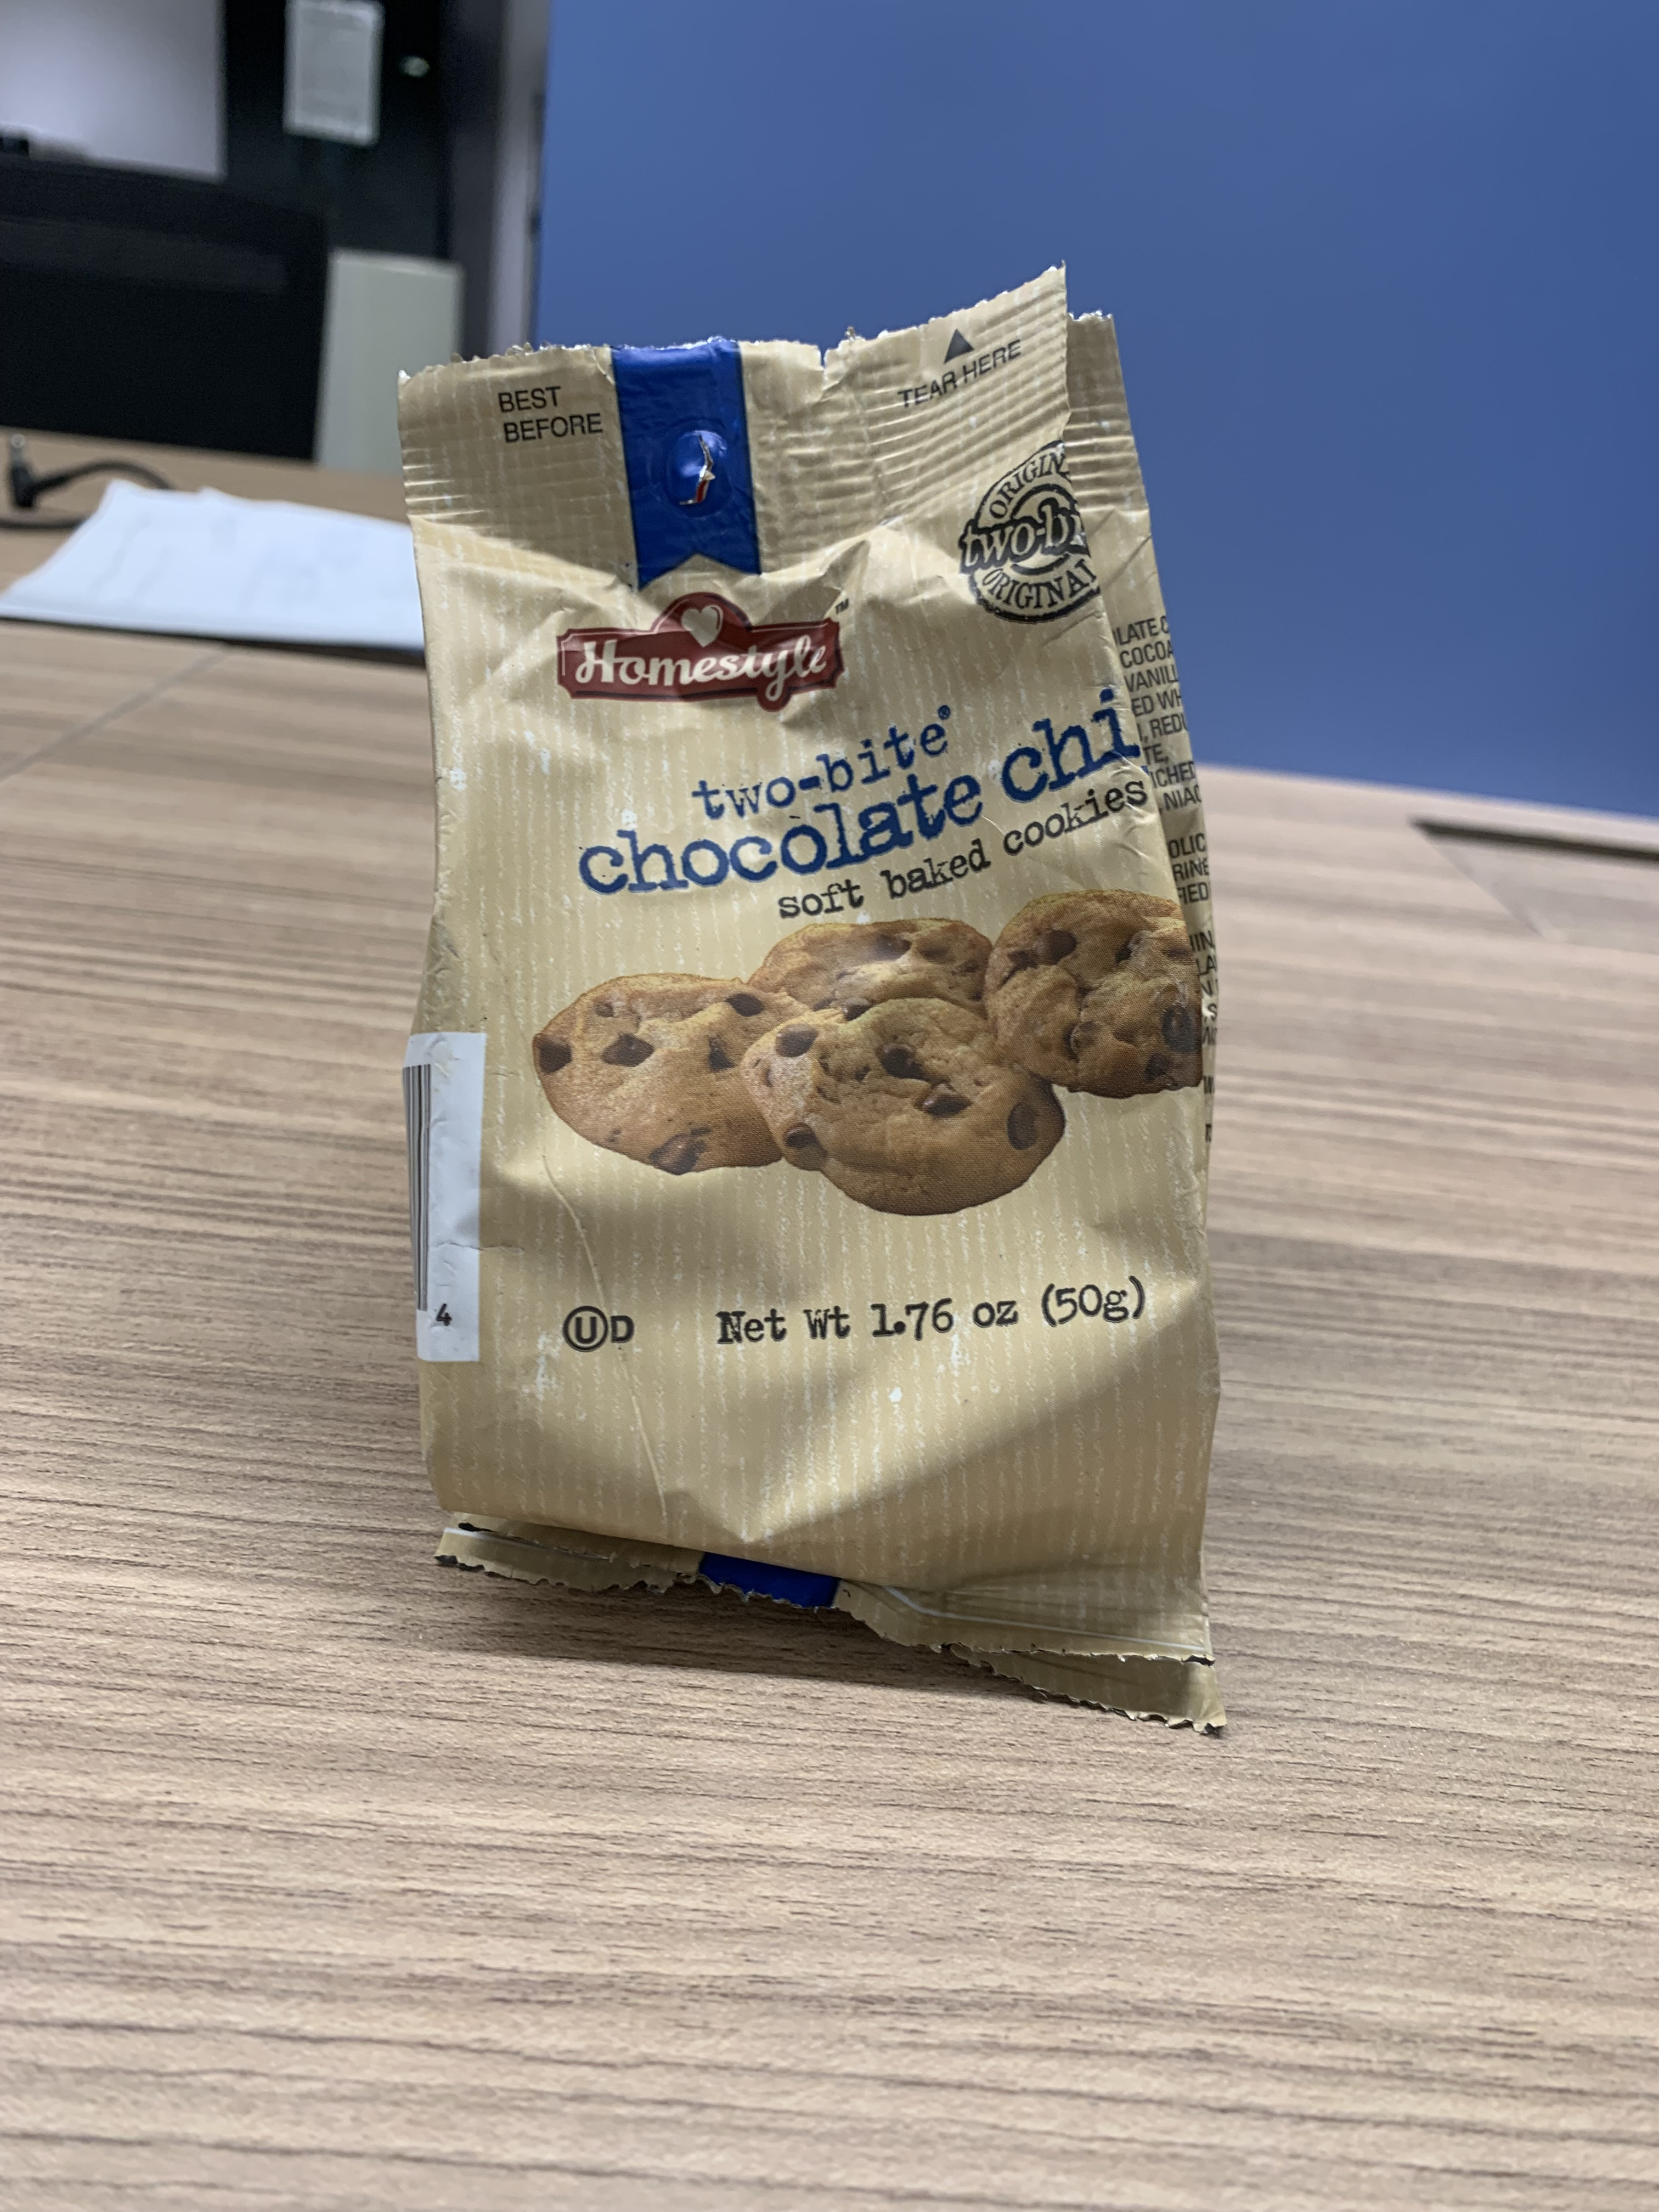cookies: (373, 244, 1243, 1740)
